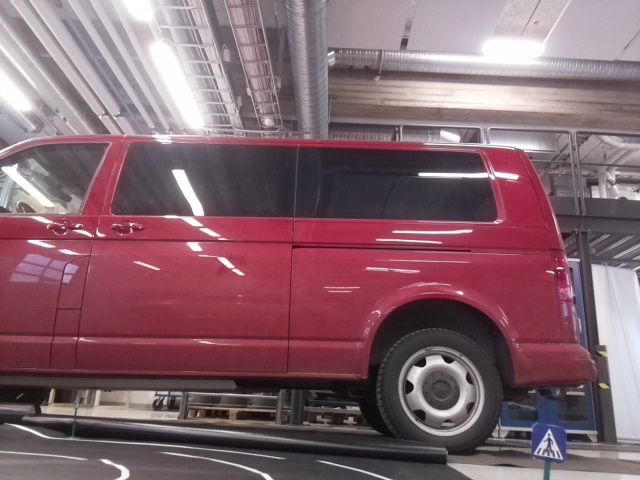Crosswalk: (531, 422, 565, 463)
